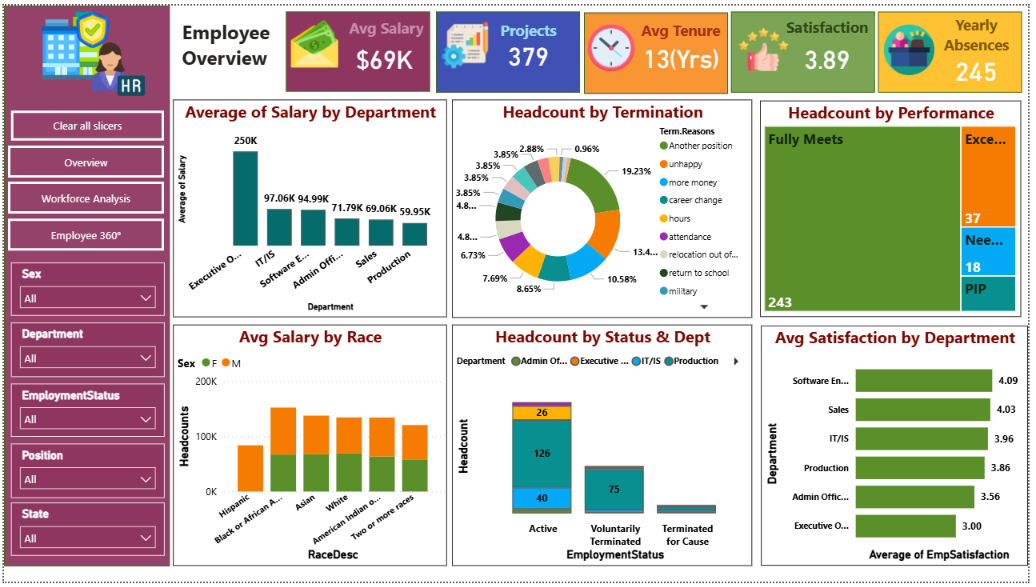

What the dashboard file says about the page in this screenshot:
{"tool":"powerbi","page":{"name":"Employee Overview","canvas":[1280,720],"ordinal":2},"visuals":[{"type":"shape","box":[0,0,207.4,700.9],"z":0},{"type":"image","box":[40,1,97.5,97.5],"z":0,"group":"g6"},{"type":"shape","box":[908.3,6.9,180,101.3],"z":0,"group":"g4"},{"type":"shape","box":[540,7,180,101.3],"z":0,"group":"g2"},{"type":"shape","box":[1093.1,7,180,101.3],"z":0,"group":"g5"},{"type":"shape","box":[352.8,7.2,180,100.1],"z":0,"group":"g1"},{"type":"shape","box":[724.8,8.6,180,101.3],"z":0,"group":"g3"},{"type":"card","title":"Yearly Absences","fields":{"Values":["All Measures.avg absences a year"]},"box":[1162.1,10.6,108.5,89.4],"z":1000,"group":"g5"},{"type":"card","title":"Satisfaction","fields":{"Values":["All Measures.avg satisfaction"]},"box":[969.9,13,118,78.7],"z":1000,"group":"g4"},{"type":"card","title":"Avg Salary","fields":{"Values":["All Measures.Avg Salary"]},"box":[421.9,14.3,108.5,76.3],"z":1000,"group":"g1"},{"type":"card","title":"Projects","fields":{"Values":["All Measures.sum of sproject"]},"box":[603.1,16.5,106.1,64.4],"z":1000,"group":"g2"},{"type":"card","title":"Avg Tenure","fields":{"Values":["All Measures.Avg tenure"]},"box":[788,16.9,114.4,69.1],"z":1000,"group":"g3"},{"type":"image","box":[103.8,36,78.8,86.2],"z":1000,"group":"g6"},{"type":"slicer","fields":{"Values":["HR_Employees_Data.EmploymentStatus"]},"box":[8.3,472,191.9,66.8],"z":1000},{"type":"image","box":[354.2,5.8,69.1,83.4],"z":2000,"group":"g1"},{"type":"image","box":[913.9,8.2,71.5,91.8],"z":2000,"group":"g4"},{"type":"image","box":[536.4,11.8,79.9,73.9],"z":2000,"group":"g2"},{"type":"image","box":[1095.4,11.8,72.7,85.8],"z":2000,"group":"g5"},{"type":"image","box":[725.1,12.6,67.9,81.1],"z":2000,"group":"g3"},{"type":"slicer","fields":{"Values":["HR_Employees_Data.Sex"]},"box":[8.3,320.7,191.9,66.8],"z":2000},{"type":"slicer","fields":{"Values":["HR_Employees_Data.Department"]},"box":[8.3,395.8,191.9,67.9],"z":3000},{"type":"slicer","fields":{"Values":["HR_Employees_Data.Position"]},"box":[8.3,547.1,191.9,67.9],"z":4000},{"type":"slicer","fields":{"Values":["HR_Employees_Data.State"]},"box":[8.3,621,191.9,66.8],"z":5000},{"type":"actionButton","box":[5,175,195,40],"z":6000},{"type":"actionButton","box":[5,220,195,40],"z":7000},{"type":"actionButton","box":[5,266.2,195,40],"z":8000},{"type":"textbox","box":[216.9,10.7,131.1,96.6],"z":9000},{"type":"group","id":"g1","title":"Group 1","box":[352.8,5.8,180,101.5],"z":10000},{"type":"group","id":"g2","title":"Group 1","box":[536.4,7,183.6,101.3],"z":11000},{"type":"group","id":"g3","title":"Group 1","box":[724.8,8.6,180,101.3],"z":12000},{"type":"group","id":"g4","title":"Group 1","box":[908.3,6.9,180,101.3],"z":13000},{"type":"group","id":"g5","title":"Group 1","box":[1093.1,7,180,101.3],"z":14000},{"type":"clusteredColumnChart","fields":{"Category":["HR_Employees_Data.Department"],"Y":["Avg(HR_Employees_Data.Salary)"]},"box":[211,118,342.1,271.8],"z":15000},{"type":"donutChart","title":"Headcount by Termination","fields":{"Y":["All Measures.Headcount"],"Category":["HR_Employees_Data.TermReason"]},"box":[560.3,118,375.5,273],"z":16000},{"type":"treemap","title":"Headcount by Performance","fields":{"Values":["All Measures.Headcount"],"Group":["HR_Employees_Data.Performance"]},"box":[945,118.8,326.2,270],"z":17000},{"type":"columnChart","title":"Avg Salary by Race","fields":{"Category":["HR_Employees_Data.RaceDesc"],"Y":["Avg(HR_Employees_Data.Salary)"],"Series":["HR_Employees_Data.Sex"]},"box":[211,399.3,342.1,301.6],"z":18000},{"type":"columnChart","title":"Headcount by Status & Dept","fields":{"Category":["HR_Employees_Data.EmploymentStatus"],"Y":["All Measures.Headcount"],"Series":["HR_Employees_Data.Department"]},"box":[560.3,399.3,375.5,301.6],"z":19000},{"type":"clusteredBarChart","title":"Avg Satisfaction by Department","fields":{"Y":["Avg(HR_Employees_Data.EmpSatisfaction)"],"Category":["HR_Employees_Data.Department"]},"box":[946.5,400.5,333.8,300.4],"z":20000},{"type":"group","id":"g6","title":"Group 2","box":[40,1,142.5,121.2],"z":21000},{"type":"actionButton","box":[8.8,131.2,191.2,37.5],"z":22000}]}

Visuals, with their boxes in screenshot pixels (x1, y1, x2, y2), scaled from the page's 1280x720 canvas onto the 1036x587 screenshot:
shape: 0, 0, 168, 571
image: 32, 1, 111, 80
shape: 735, 6, 881, 88
shape: 437, 6, 583, 88
shape: 885, 6, 1030, 88
shape: 286, 6, 431, 87
shape: 587, 7, 732, 90
"Yearly Absences" card: 941, 9, 1028, 82
"Satisfaction" card: 785, 11, 881, 75
"Avg Salary" card: 341, 12, 429, 74
"Projects" card: 488, 13, 574, 66
"Avg Tenure" card: 638, 14, 730, 70
image: 84, 29, 148, 100
slicer - HR_Employees_Data.EmploymentStatus: 7, 385, 162, 439
image: 287, 5, 343, 73
image: 740, 7, 798, 82
image: 434, 10, 499, 70
image: 887, 10, 945, 80
image: 587, 10, 642, 76
slicer - HR_Employees_Data.Sex: 7, 261, 162, 316
slicer - HR_Employees_Data.Department: 7, 323, 162, 378
slicer - HR_Employees_Data.Position: 7, 446, 162, 501
slicer - HR_Employees_Data.State: 7, 506, 162, 561
actionButton: 4, 143, 162, 175
actionButton: 4, 179, 162, 212
actionButton: 4, 217, 162, 250
textbox: 176, 9, 282, 87
"Group 1" group: 286, 5, 431, 87
"Group 1" group: 434, 6, 583, 88
"Group 1" group: 587, 7, 732, 90
"Group 1" group: 735, 6, 881, 88
"Group 1" group: 885, 6, 1030, 88
clusteredColumnChart - HR_Employees_Data.Department x Avg(HR_Employees_Data.Salary): 171, 96, 448, 318
"Headcount by Termination" donutChart: 453, 96, 757, 319
"Headcount by Performance" treemap: 765, 97, 1029, 317
"Avg Salary by Race" columnChart: 171, 326, 448, 571
"Headcount by Status & Dept" columnChart: 453, 326, 757, 571
"Avg Satisfaction by Department" clusteredBarChart: 766, 327, 1035, 571
"Group 2" group: 32, 1, 148, 100
actionButton: 7, 107, 162, 138
